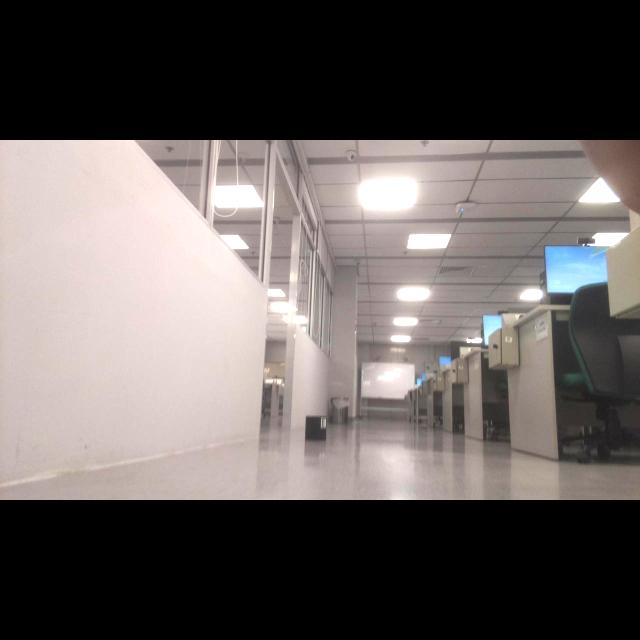E: (322, 418, 325, 427)
